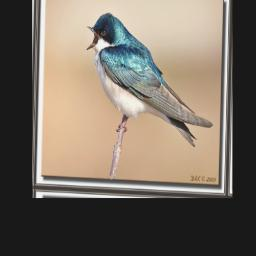Swallow: (82, 9, 217, 150)
